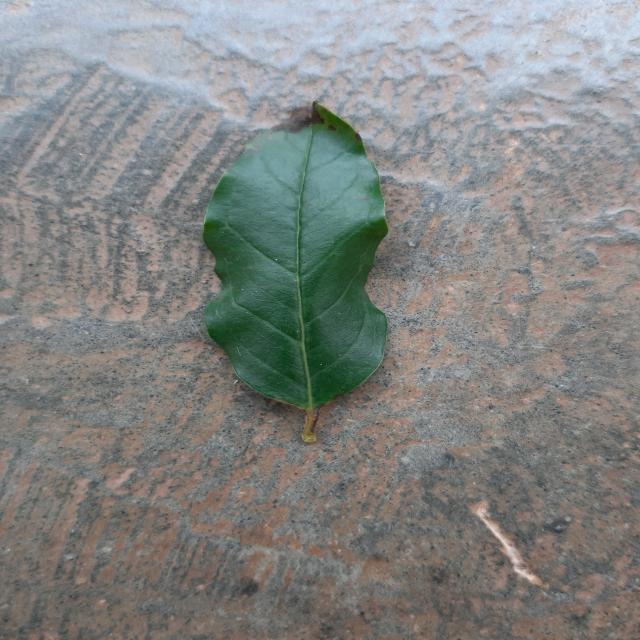pomgranate: (202, 102, 389, 442)
